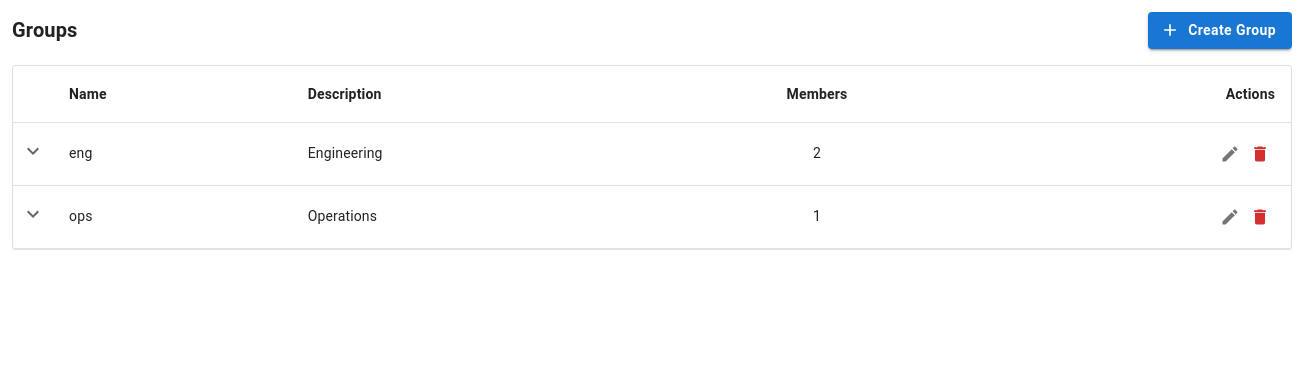
Test case: AdminGroups › Row expansion › renders the empty-members message when both lists are empty
Click the text "eng": (172, 154) [53,122,292,185]
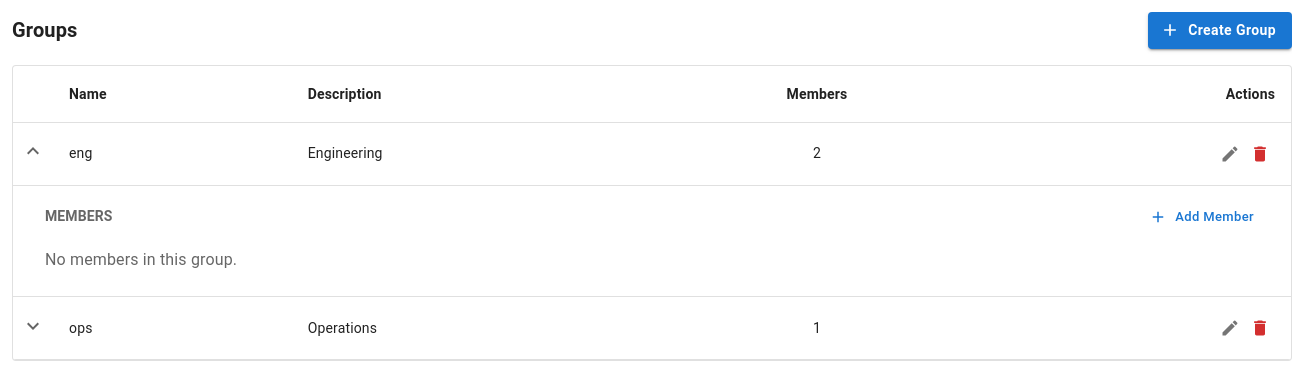
Now the text "No members in this group." is shown, box [45,250,237,269]
